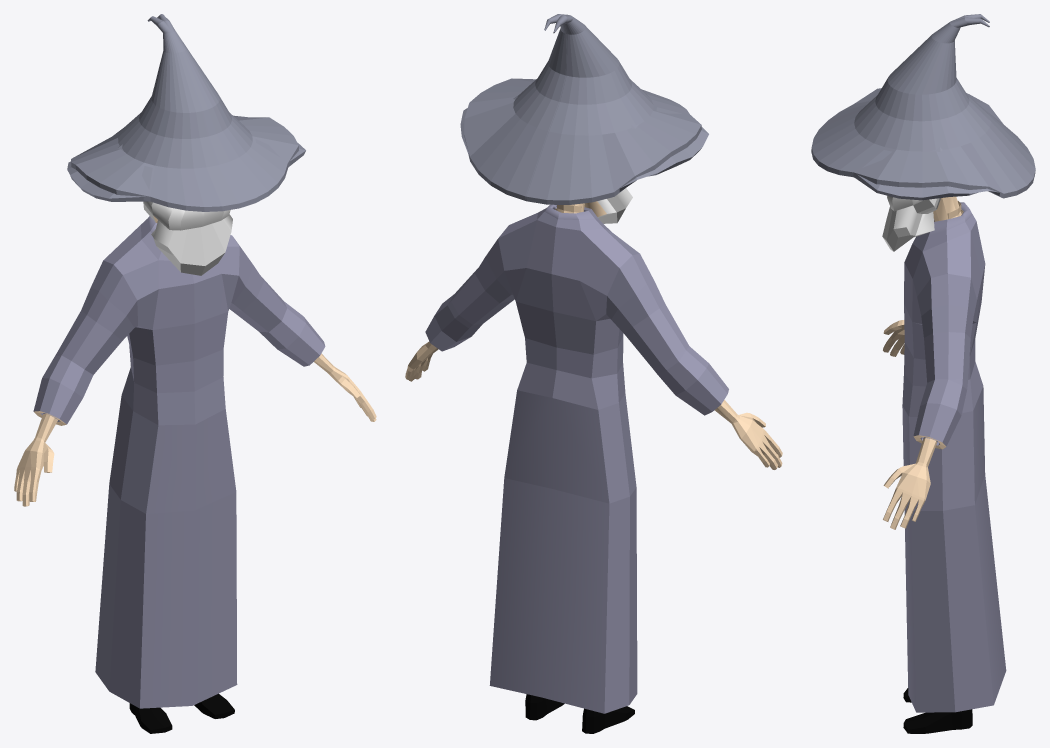
The model's file is Wizard.fbx.
3 renders of one model, left to right at view 1: azimuth 30°, elevation 25°; view 2: azimuth 150°, elevation 25°; view 3: azimuth 270°, elevation 25°, orthographic. The views are drawn at different scales.
Visible parts, largest first — view 1: Liam_Naked; view 2: Liam_Naked; view 3: Liam_Naked.
Boxes of the visible parts, box(x1,y1,x2,y2) form: Liam_Naked: box(14, 14, 376, 733); Liam_Naked: box(405, 14, 782, 733); Liam_Naked: box(811, 14, 1035, 733).
Bounding box in the file's own units: 114 × 210 × 61.22.
